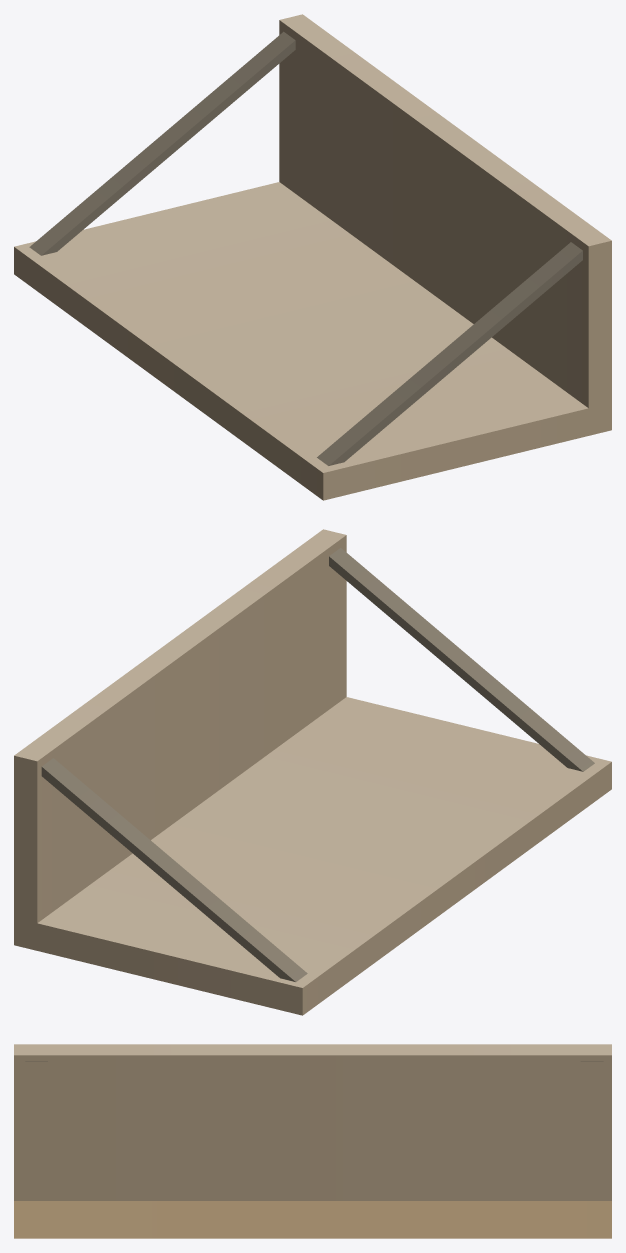
File: WallStandPlatform2_Short.fbx
3 renders of one model, top to bottom at view 1: azimuth 30°, elevation 25°; view 2: azimuth 150°, elevation 25°; view 3: azimuth 270°, elevation 25°, orthographic. The views are drawn at different scales.
Visible parts, largest first — view 1: WallStandPlatform2_Short; view 2: WallStandPlatform2_Short; view 3: WallStandPlatform2_Short.
Boxes of the visible parts, x1,y1,x2,y2 form: WallStandPlatform2_Short: (14, 14, 611, 500); WallStandPlatform2_Short: (14, 529, 611, 1015); WallStandPlatform2_Short: (14, 1044, 611, 1238).
Size of the model in its own units: 34.09 by 21.39 by 63.26.
